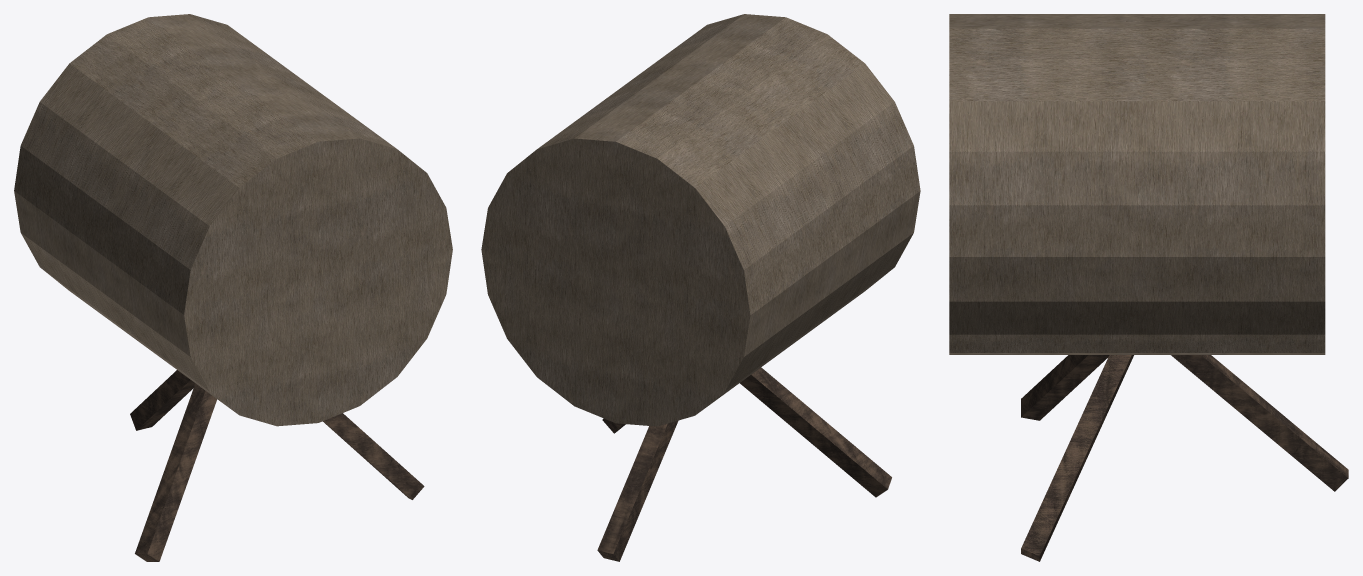
File: prop_training_butt.glb
The picture shows the model from 3 angles, left to right: view 1: azimuth 30°, elevation 25°; view 2: azimuth 150°, elevation 25°; view 3: azimuth 270°, elevation 25°; orthographic projection. The views are drawn at different scales.
Visible parts, largest first — view 1: prop_training_butt; view 2: prop_training_butt; view 3: prop_training_butt.
Boxes of the visible parts, x1=… form: prop_training_butt: x1=14, y1=14, x2=452, y2=561; prop_training_butt: x1=481, y1=14, x2=920, y2=561; prop_training_butt: x1=949, y1=14, x2=1348, y2=561.
Size of the model in its own units: 0.8924 by 1.25 by 0.9769.
Materials: 2 (2 with a texture image).
